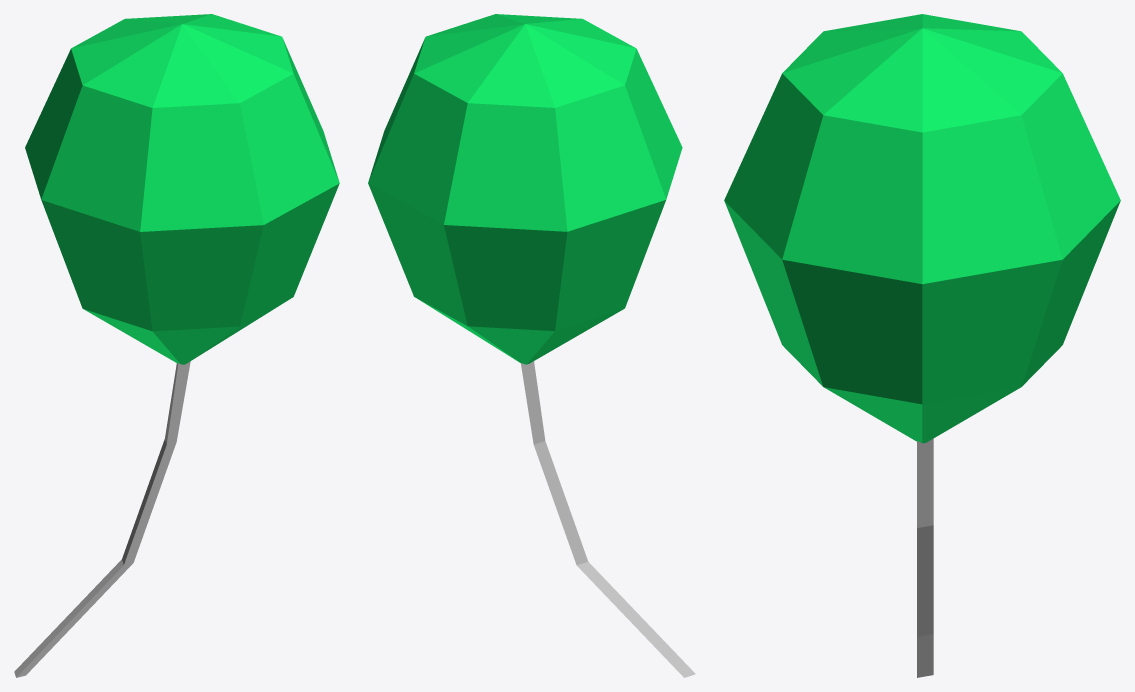
The model's file is baloongreen.fbx.
The picture shows the model from 3 angles, left to right: view 1: azimuth 30°, elevation 25°; view 2: azimuth 150°, elevation 25°; view 3: azimuth 270°, elevation 25°; orthographic projection. The views are drawn at different scales.
Parts seen in each view (by area): view 1: 球, 円柱; view 2: 球, 円柱; view 3: 球, 円柱.
Boxes of the visible parts, bbox=[...] form: 球: bbox=[25, 14, 339, 364]; 円柱: bbox=[14, 361, 190, 677]; 球: bbox=[368, 14, 682, 364]; 円柱: bbox=[520, 361, 695, 677]; 球: bbox=[724, 14, 1120, 443]; 円柱: bbox=[917, 438, 933, 677].
Bounding box in the file's own units: 219 × 414 × 200.
